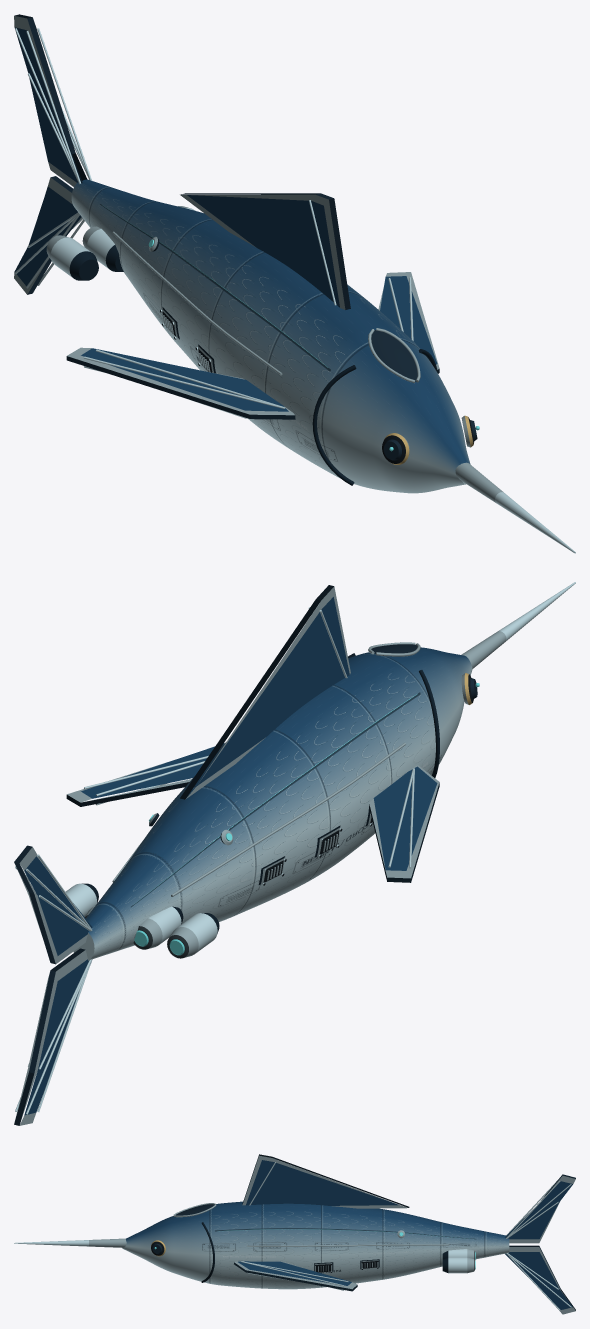
File: ship.glb
3 renders of one model, top to bottom at view 1: azimuth 30°, elevation 25°; view 2: azimuth 150°, elevation 25°; view 3: azimuth 270°, elevation 25°, orthographic. The views are drawn at different scales.
Parts seen in each view (by area): view 1: marlin_hull; view 2: marlin_hull; view 3: marlin_hull.
Part boxes in pixels (x1=…): marlin_hull: x1=14, y1=14, x2=575, y2=553; marlin_hull: x1=14, y1=582, x2=575, y2=1125; marlin_hull: x1=14, y1=1154, x2=575, y2=1314.
Size of the model in its own units: 92.3 by 80.93 by 259.
1 material, 1 textured.
